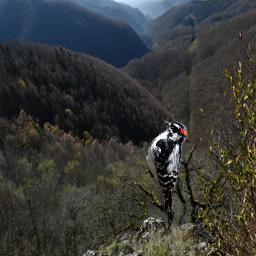Woodpecker: (145, 119, 189, 212)
